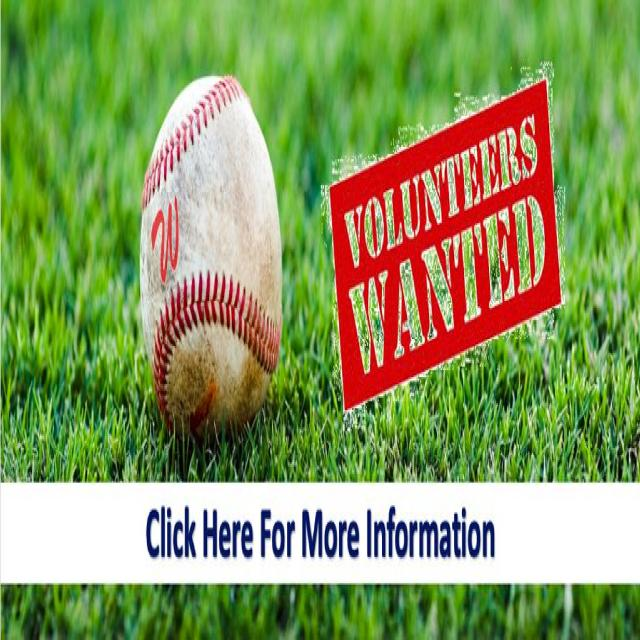baseball: (138, 74, 283, 440)
